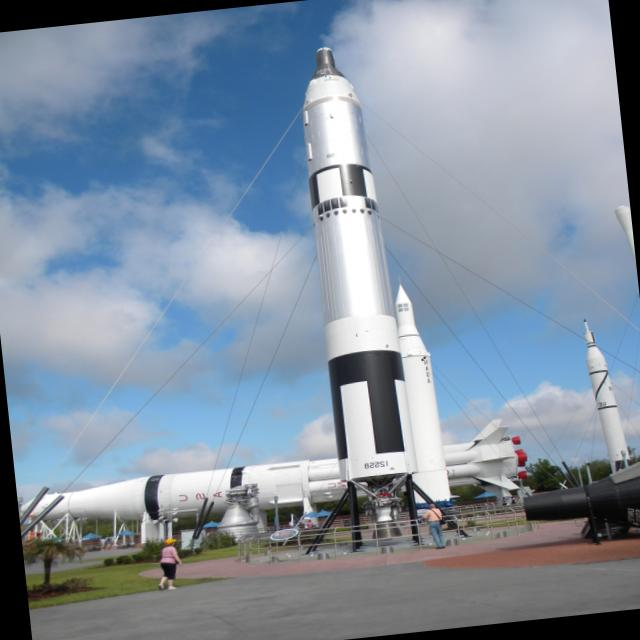rocket: (268, 24, 447, 504)
